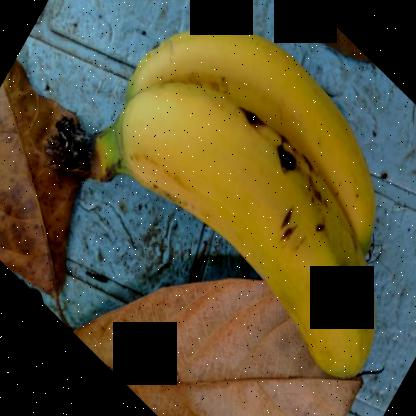ripe: (98, 68, 373, 380)
